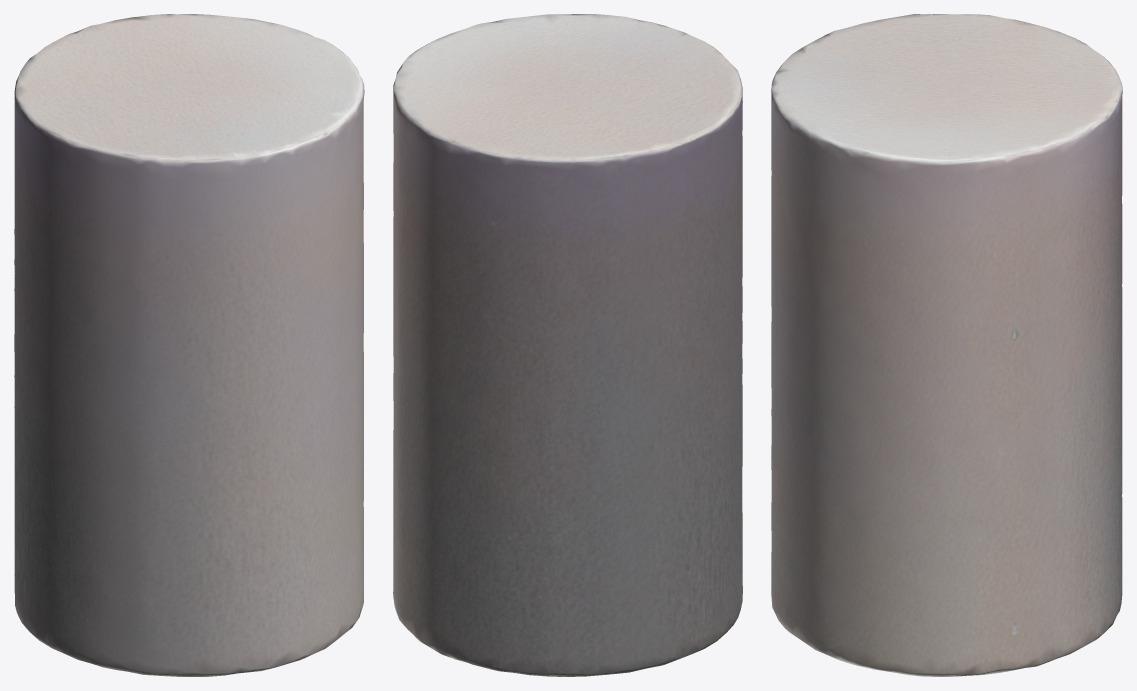
File: 남산_하부기둥.glb
3 views of the same model, side by side, from view 1: azimuth 30°, elevation 25°; view 2: azimuth 150°, elevation 25°; view 3: azimuth 270°, elevation 25° (orthographic).
Parts seen in each view (by area): view 1: texture_mapping; view 2: texture_mapping; view 3: texture_mapping.
Part boxes in pixels (left/top/right/bottom): texture_mapping: left=14, top=14, right=364, bottom=676; texture_mapping: left=393, top=14, right=742, bottom=676; texture_mapping: left=771, top=14, right=1122, bottom=676.
Size of the model in its own units: 0.615 by 1 by 0.6151.
1 material, 1 textured.
